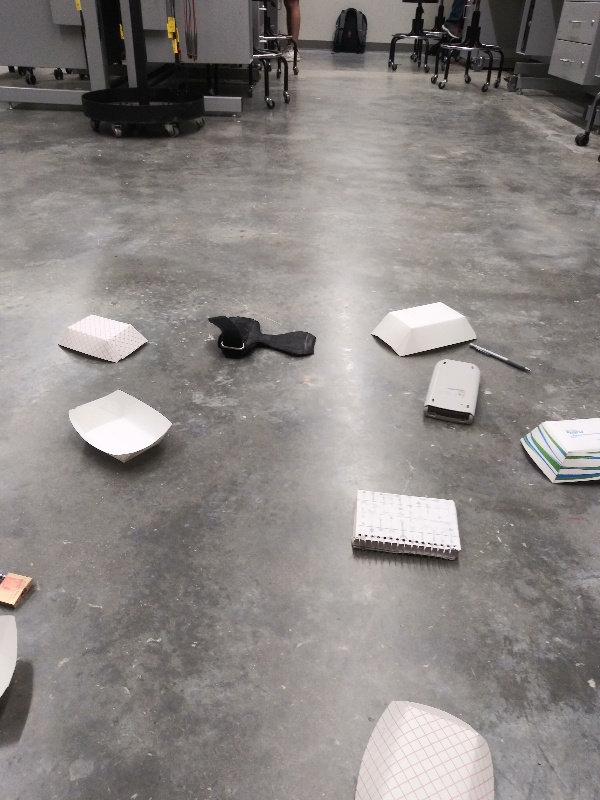plate: (345, 692, 507, 800), (64, 386, 180, 475), (367, 299, 480, 363), (515, 413, 600, 488), (54, 310, 153, 369), (1, 610, 21, 717)
